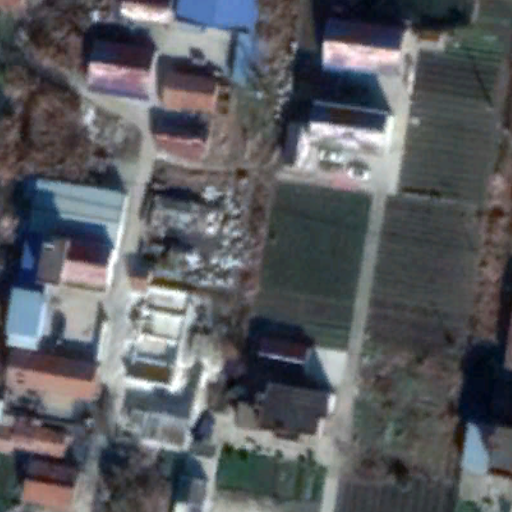msw: (187, 189, 252, 283)
